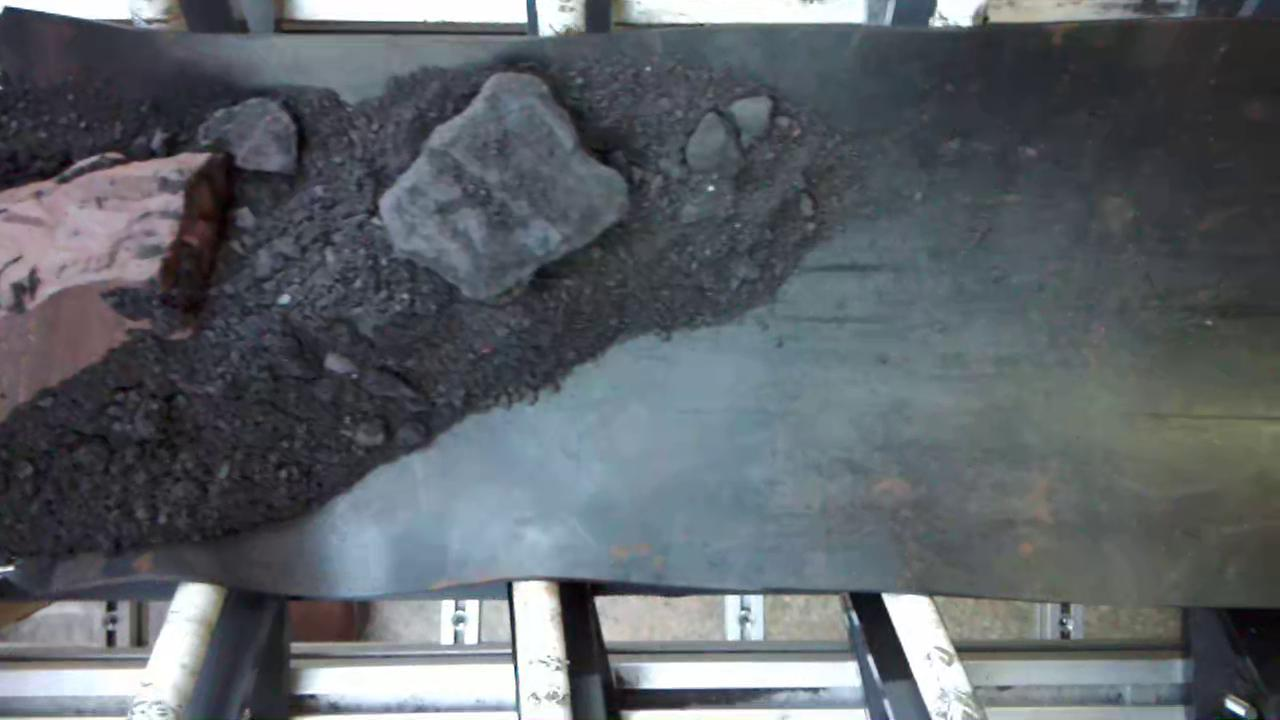conveyor: (1, 42, 1280, 590)
